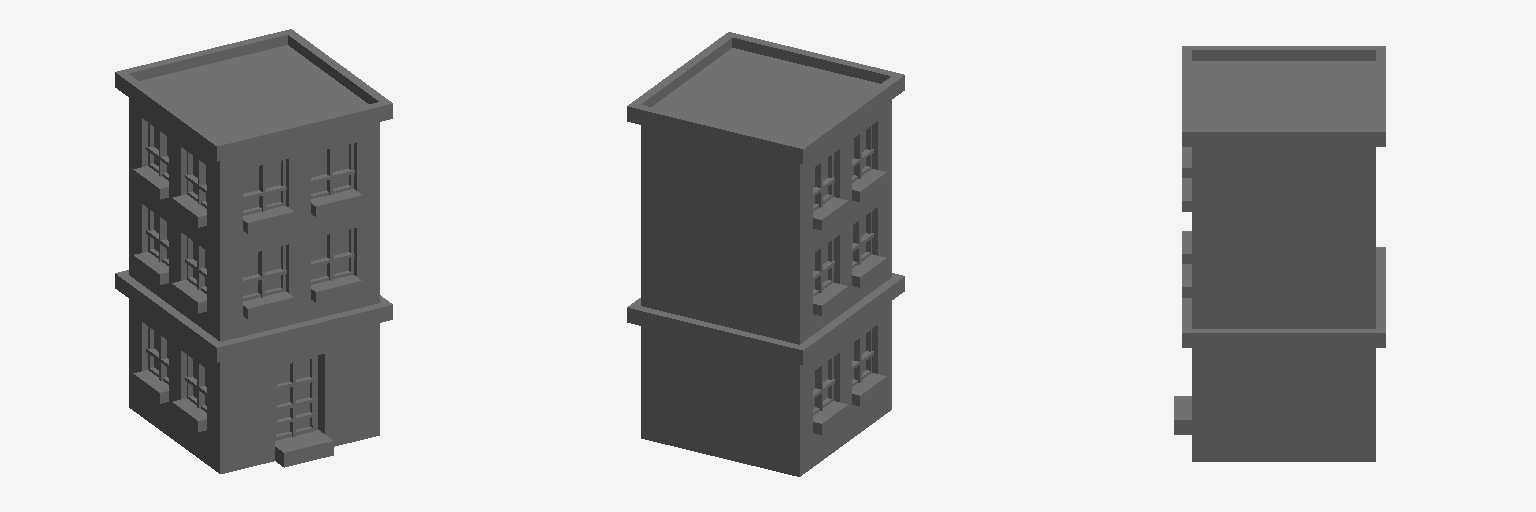
The model's file is S_Building2.obj.
3 renders of one model, left to right at view 1: azimuth 30°, elevation 25°; view 2: azimuth 150°, elevation 25°; view 3: azimuth 270°, elevation 25°, orthographic.
Visible parts, largest first — view 1: S_Building2; view 2: S_Building2; view 3: S_Building2.
Boxes of the visible parts, box(x1,y1,x2,y2) form: S_Building2: box(115, 29, 392, 473); S_Building2: box(627, 32, 904, 476); S_Building2: box(1174, 46, 1385, 461).
Bounding box in the file's own units: 1009 × 1822 × 1047.